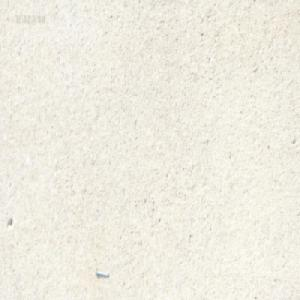Nail: (94, 267, 109, 277)
